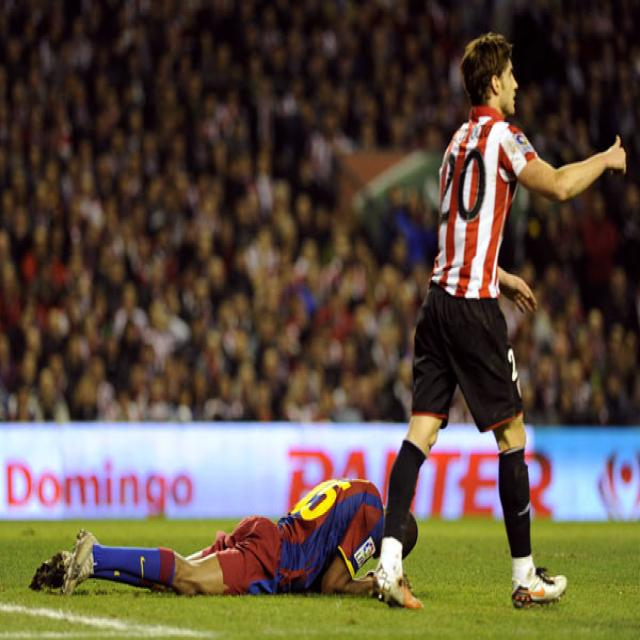fall: (33, 470, 410, 592)
